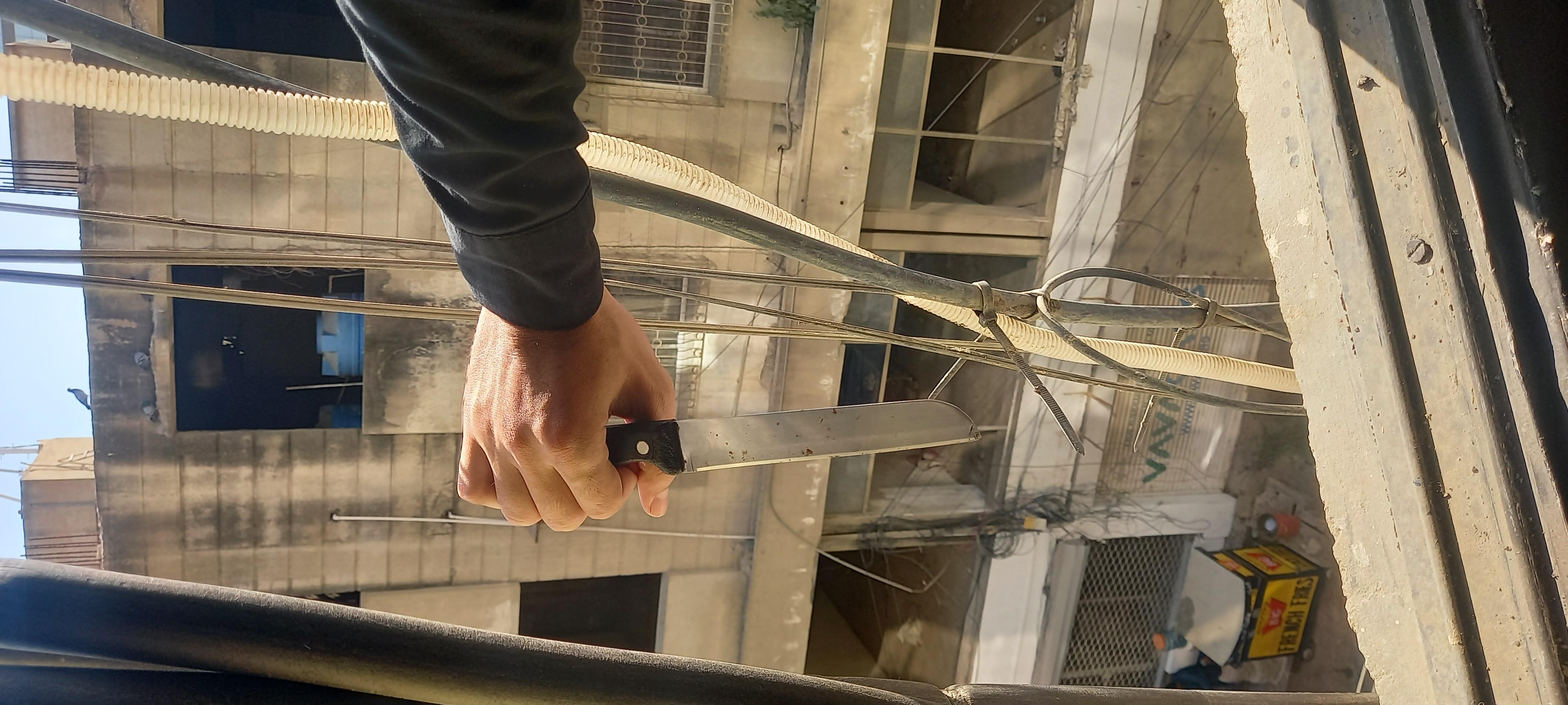knives: (394, 217, 705, 442)
